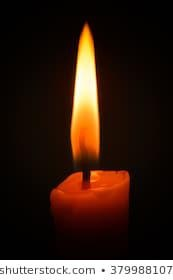fire: (70, 18, 101, 165)
